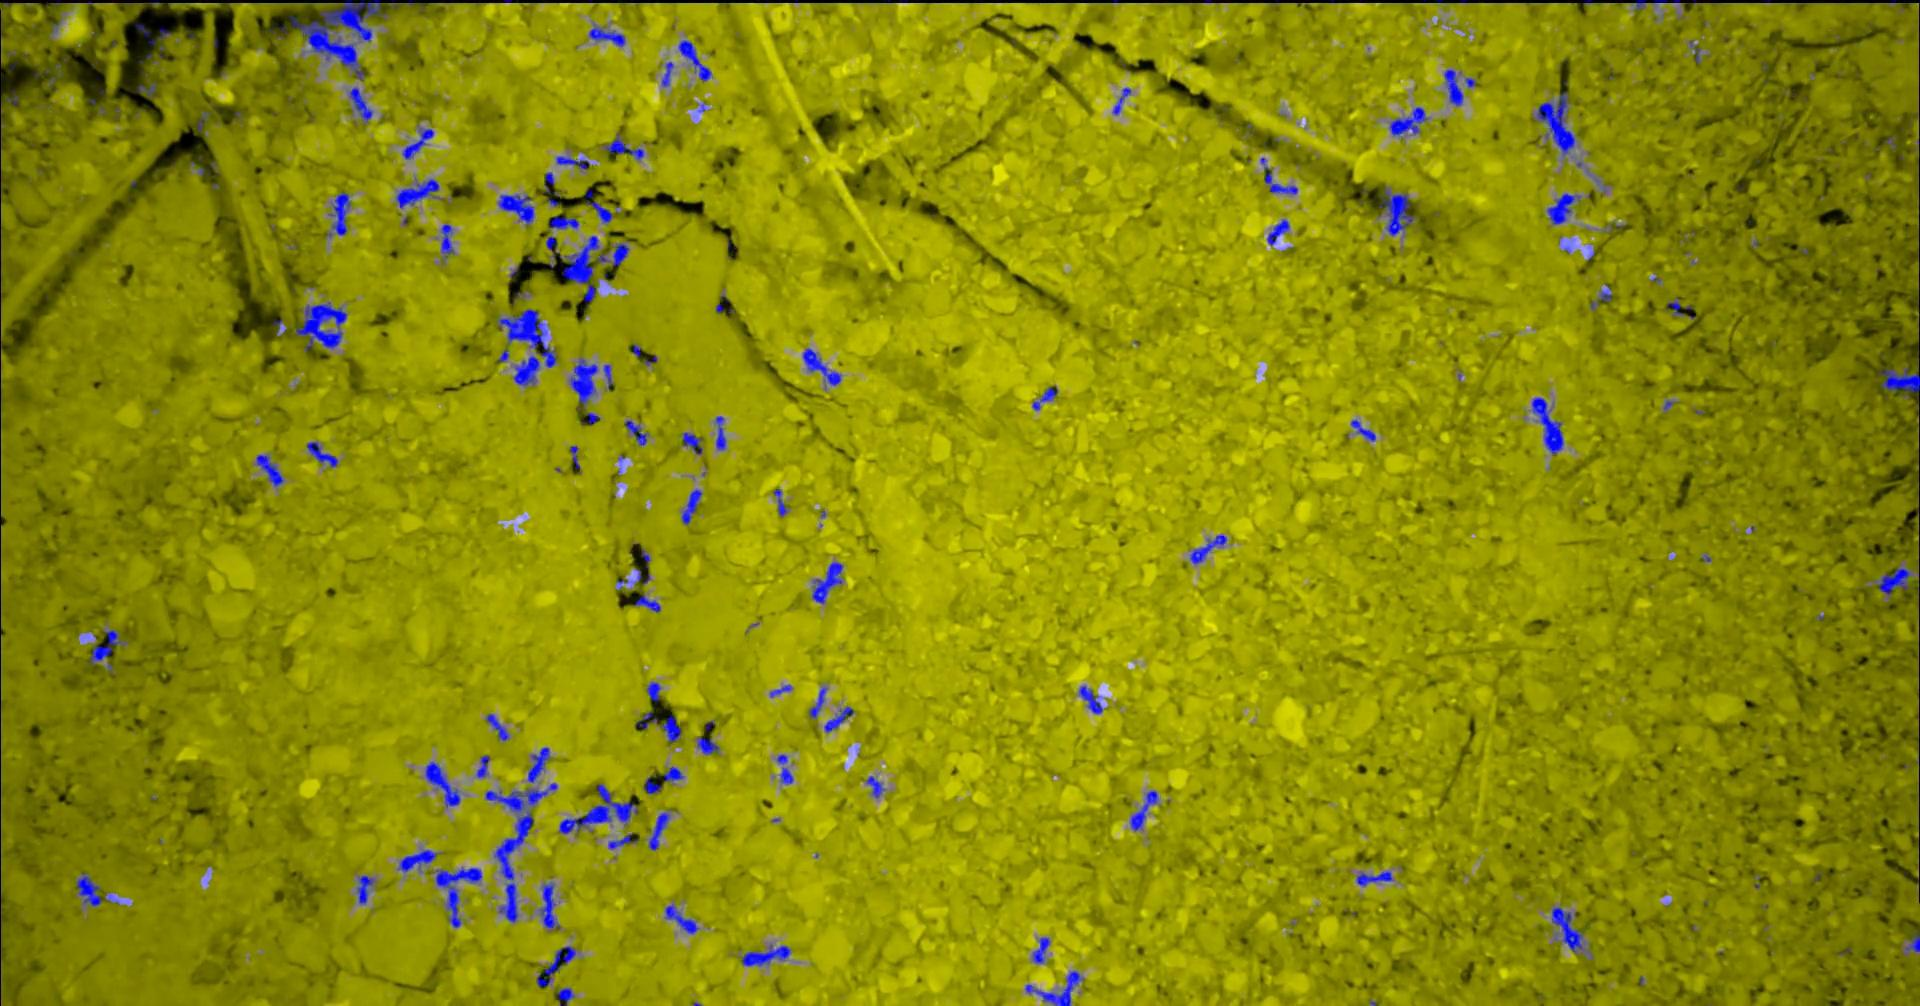ant: (436, 868, 481, 927), (1537, 89, 1575, 155), (1023, 970, 1083, 1005), (1531, 398, 1563, 453), (1378, 187, 1413, 235), (536, 946, 575, 986), (1877, 359, 1919, 396), (425, 761, 458, 807), (569, 358, 597, 410), (1550, 906, 1582, 951), (803, 348, 841, 385), (678, 39, 711, 81), (75, 873, 117, 906), (1260, 158, 1297, 194), (811, 561, 842, 603), (88, 629, 123, 664), (395, 178, 438, 207), (1389, 105, 1427, 136), (742, 944, 790, 967), (1129, 790, 1157, 829), (498, 194, 533, 225), (1545, 193, 1580, 224), (1189, 535, 1225, 563), (328, 191, 350, 235), (664, 904, 698, 934), (604, 133, 643, 159), (538, 882, 559, 929), (403, 128, 433, 159), (255, 453, 283, 486), (397, 848, 436, 873), (1878, 567, 1910, 594), (585, 189, 612, 222), (648, 809, 669, 850), (306, 441, 337, 467), (135, 23, 171, 44), (349, 86, 372, 121), (823, 706, 853, 732), (527, 747, 549, 782), (588, 25, 623, 46), (681, 489, 701, 525), (1443, 69, 1462, 105), (1078, 685, 1102, 713), (485, 713, 508, 741), (1266, 218, 1289, 245), (1032, 386, 1057, 410), (623, 420, 648, 445), (808, 687, 827, 718), (1350, 419, 1375, 441), (1112, 86, 1131, 114), (1590, 285, 1611, 309), (356, 875, 373, 904), (555, 155, 592, 169), (662, 715, 681, 742), (543, 171, 559, 205), (439, 224, 455, 257), (632, 593, 660, 611), (1356, 871, 1392, 885), (681, 431, 702, 453), (776, 754, 792, 784), (608, 832, 635, 848), (1032, 937, 1049, 963), (865, 775, 884, 796), (697, 735, 717, 754), (612, 243, 629, 265), (549, 215, 578, 227), (773, 488, 786, 516), (662, 766, 684, 781), (715, 415, 725, 448), (636, 711, 657, 728), (475, 754, 489, 777), (1905, 929, 1919, 951), (556, 987, 574, 1005), (643, 776, 662, 793), (770, 683, 791, 697), (662, 61, 673, 86), (196, 111, 210, 131), (646, 681, 660, 701), (1667, 297, 1683, 315), (136, 83, 155, 97), (603, 365, 613, 389), (569, 445, 579, 467), (580, 412, 599, 423), (0, 903, 1, 962)
